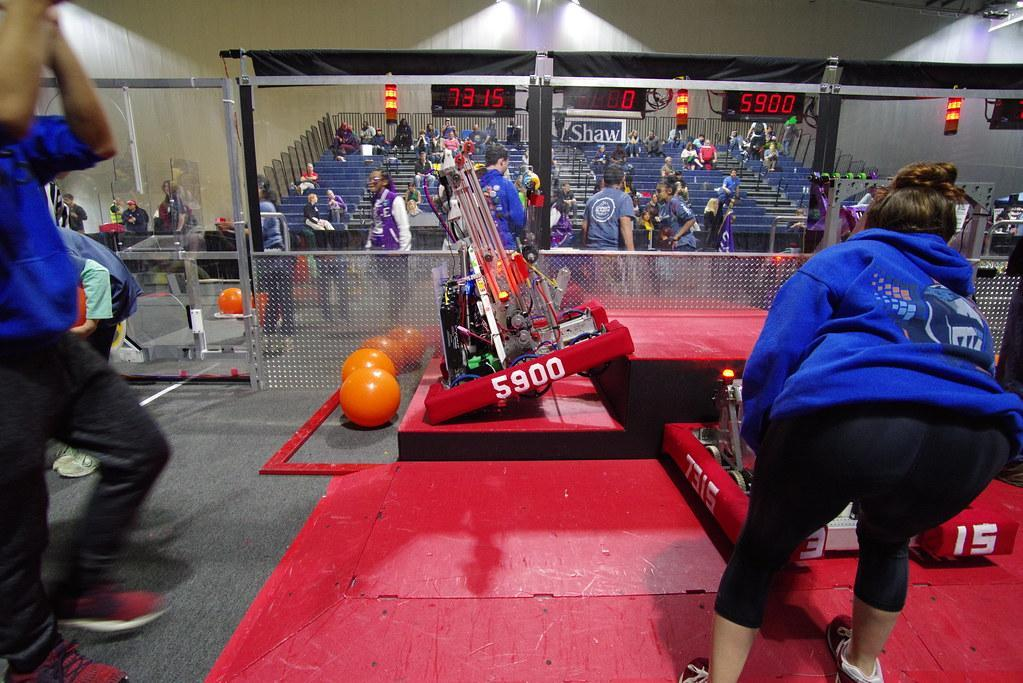robot: (654, 341, 1022, 573), (417, 146, 639, 427)
